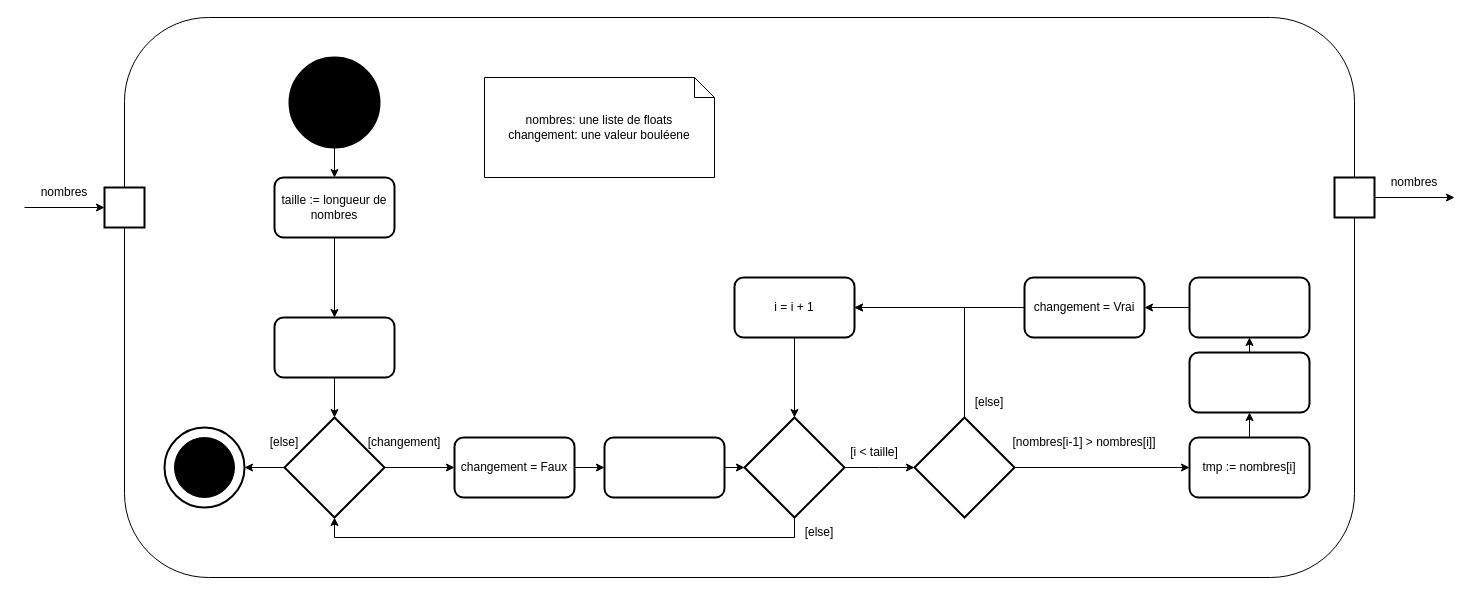
Some shapes in this 1480 by 595 pixel diagram are drawn without their labels. The shapes that lost their labels are listed below. From the top down, each one's box as (x1, y1, x2, y2) in pixels, then its label:
(1188, 276, 1310, 338): nombres[i-1] = tmp
(273, 316, 395, 378): changement := Vrai
(1188, 351, 1310, 413): nombres[i] = nombres[i-1]
(603, 436, 725, 498): i := 1
